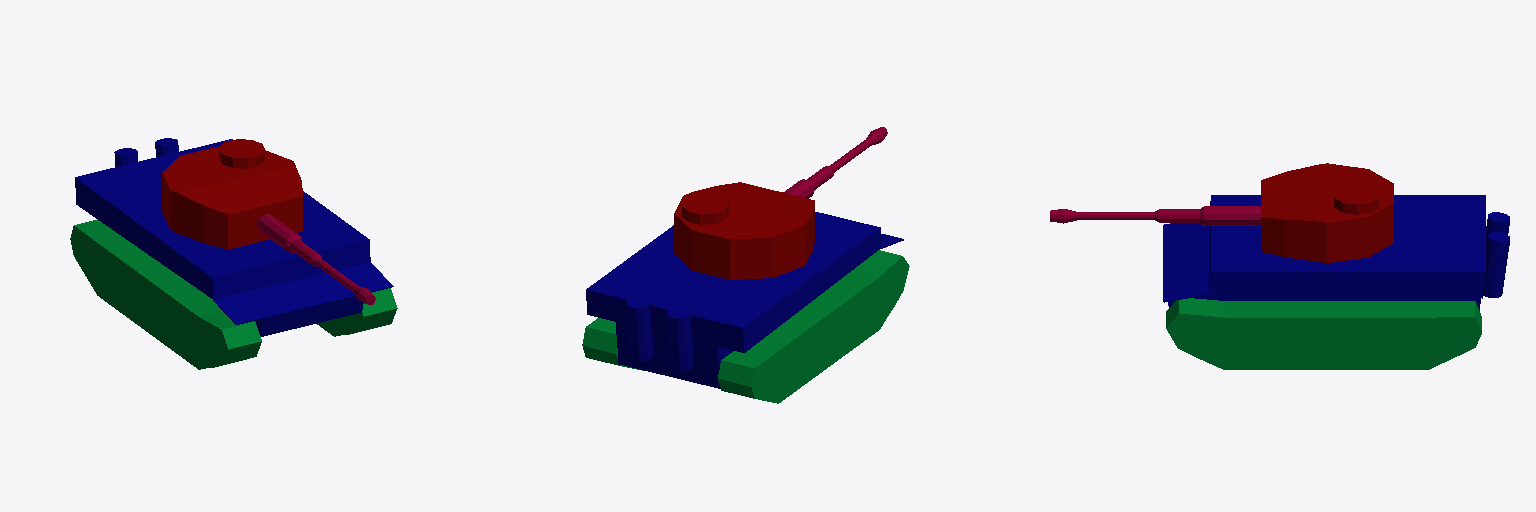
Rendered from tygrys.obj.
3 views of the same model, side by side, from view 1: azimuth 30°, elevation 25°; view 2: azimuth 150°, elevation 25°; view 3: azimuth 270°, elevation 25° (orthographic).
Visible parts, largest first — view 1: Kadlub, Gasienica002, Wieza, Lufa, Gasienica001; view 2: Kadlub, Gasienica002, Wieza, Gasienica001, Lufa; view 3: Kadlub, Gasienica001, Wieza, Lufa.
Part boxes in pixels (bbox=[...]): Kadlub: bbox=[75, 138, 393, 336]; Gasienica002: bbox=[70, 219, 261, 369]; Wieza: bbox=[162, 139, 302, 249]; Lufa: bbox=[257, 214, 375, 304]; Gasienica001: bbox=[317, 288, 397, 336]; Kadlub: bbox=[586, 212, 903, 388]; Gasienica002: bbox=[718, 250, 909, 403]; Wieza: bbox=[674, 182, 814, 279]; Gasienica001: bbox=[582, 318, 643, 370]; Lufa: bbox=[783, 127, 887, 198]; Kadlub: bbox=[1163, 195, 1509, 310]; Gasienica001: bbox=[1166, 298, 1481, 369]; Wieza: bbox=[1261, 163, 1393, 262]; Lufa: bbox=[1050, 206, 1260, 225].
Size of the model in its own units: 2500 by 2068 by 5896.